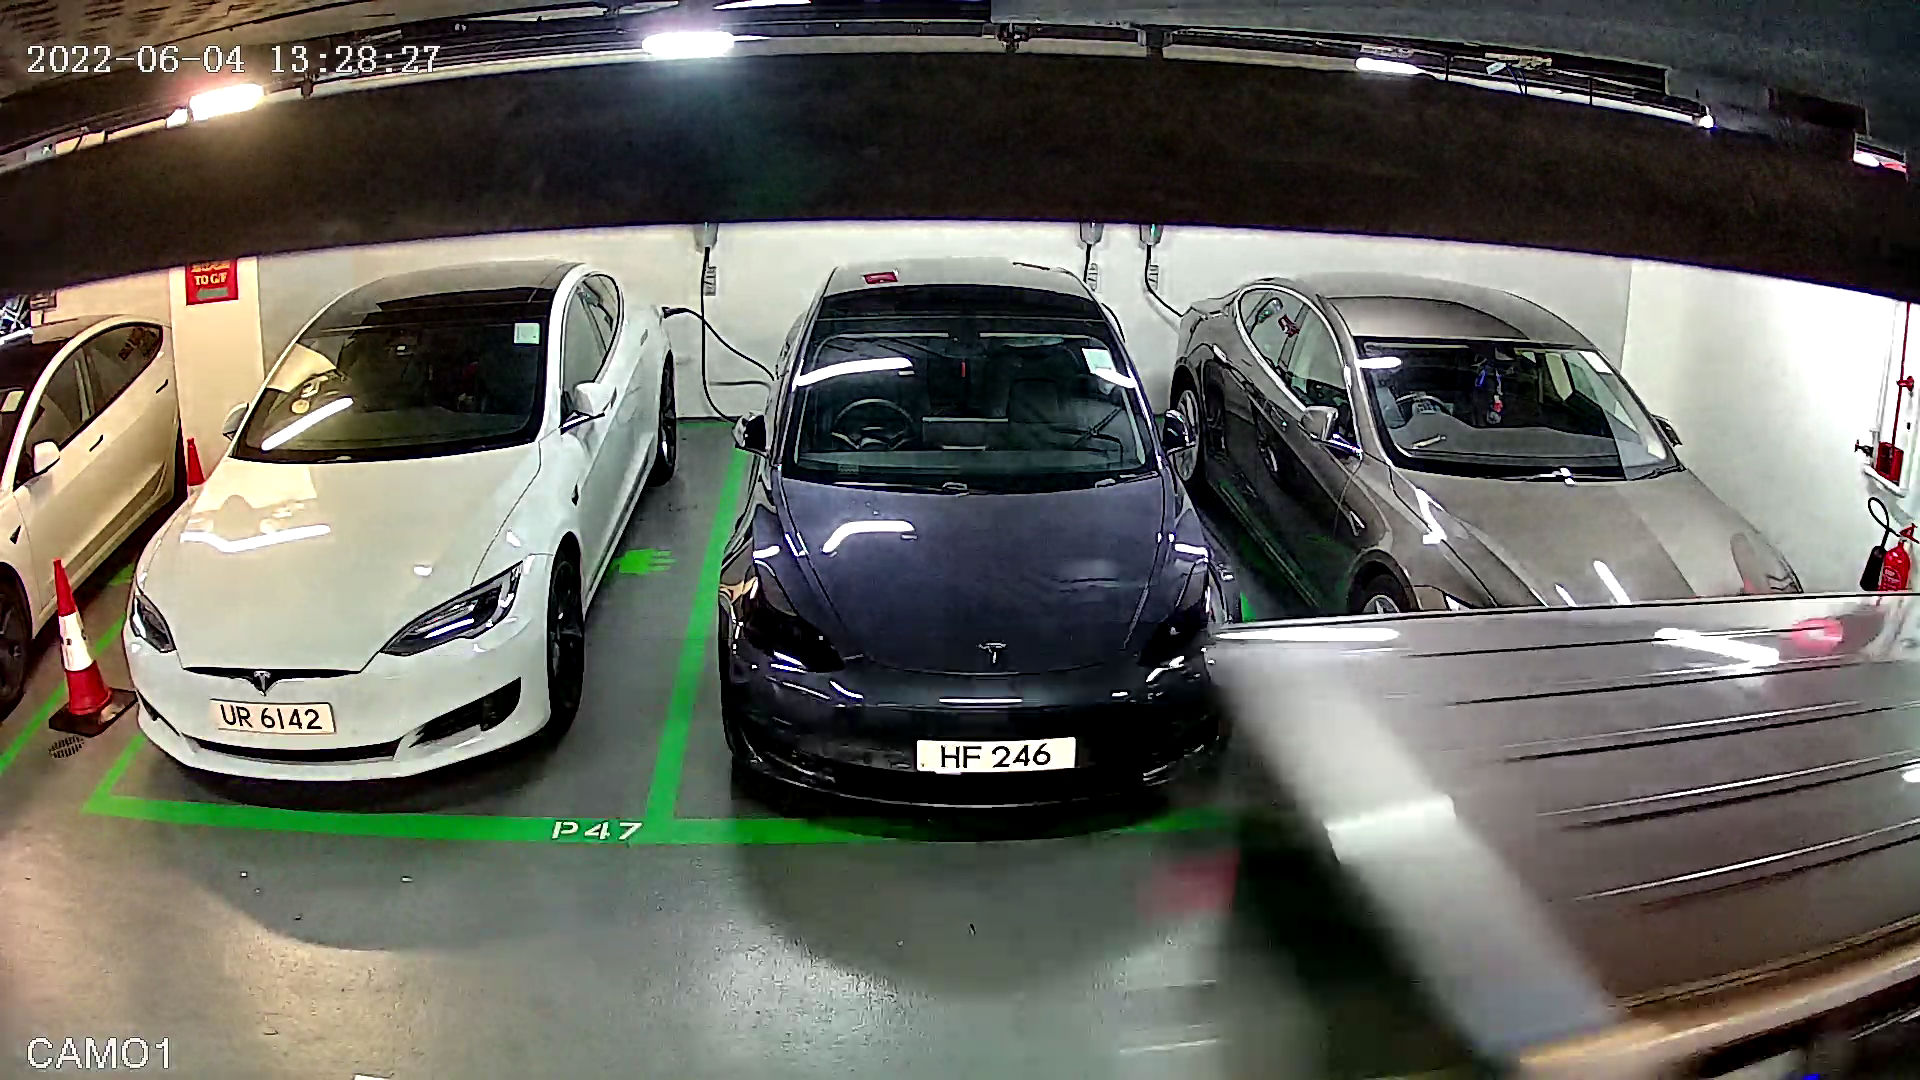car: (694, 220, 1240, 902), (109, 245, 680, 872), (1171, 249, 1854, 694)
